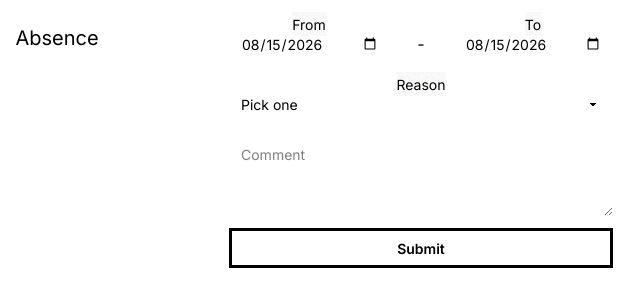
Test: Absence form › pulls the from-date back when an earlier to-date is chosen
This screenshot has width=630, height=285.
Type "2026-06-29" into the date field next to "From" at (309, 44), box [229,24,389,64]
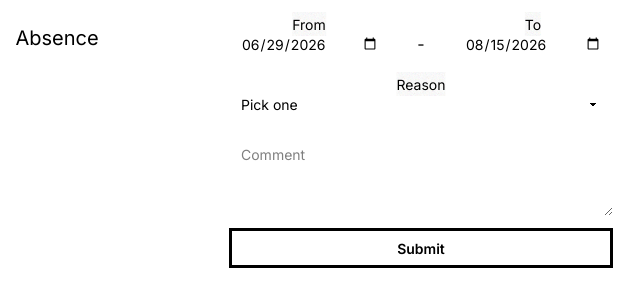
Type "2026-06-20" into the date field next to "To" at (533, 44), box [453,24,613,64]
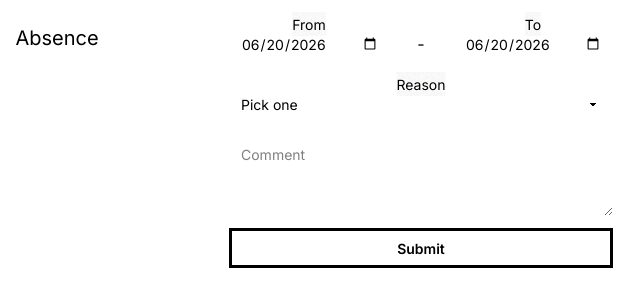
Now the date field next to "From" holds "2026-06-20", box [229,24,389,64]
